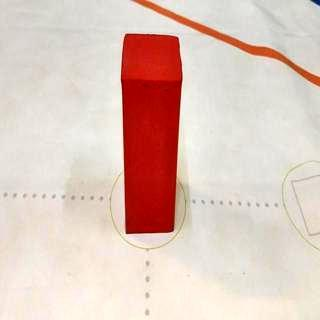redbox: (122, 34, 178, 234)
